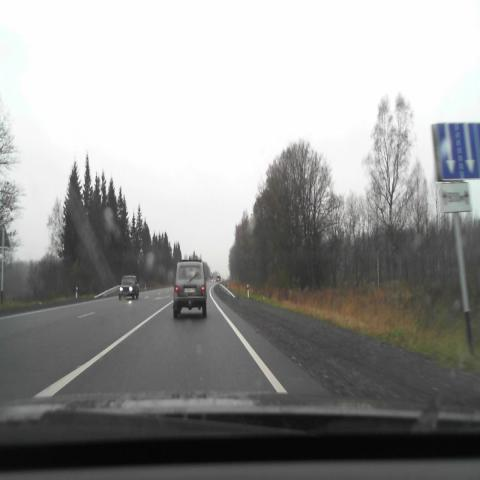5_15_7: (432, 123, 480, 182)
8_2_1: (438, 182, 472, 212)
